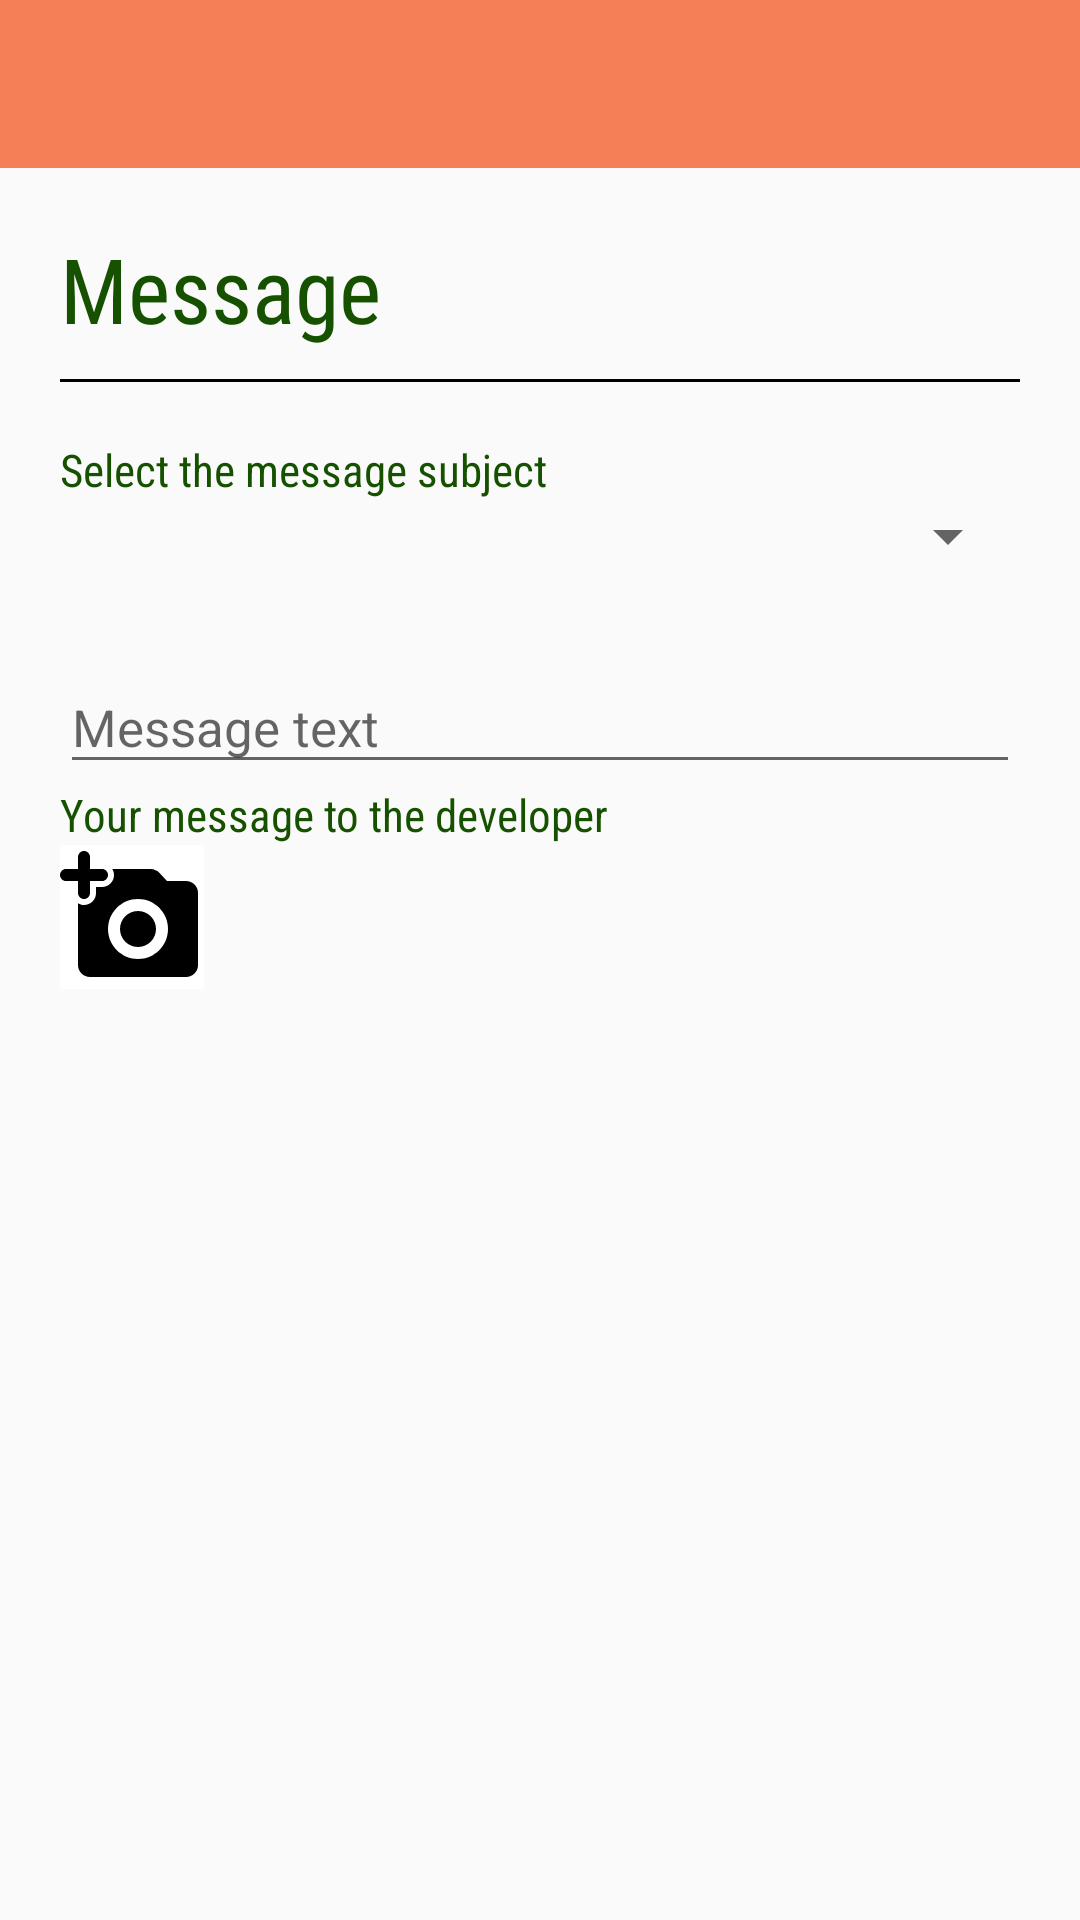

Named icons in this screenshot (1080w x 1920h) and their centers, (x,y):
add photo: (129,914)
